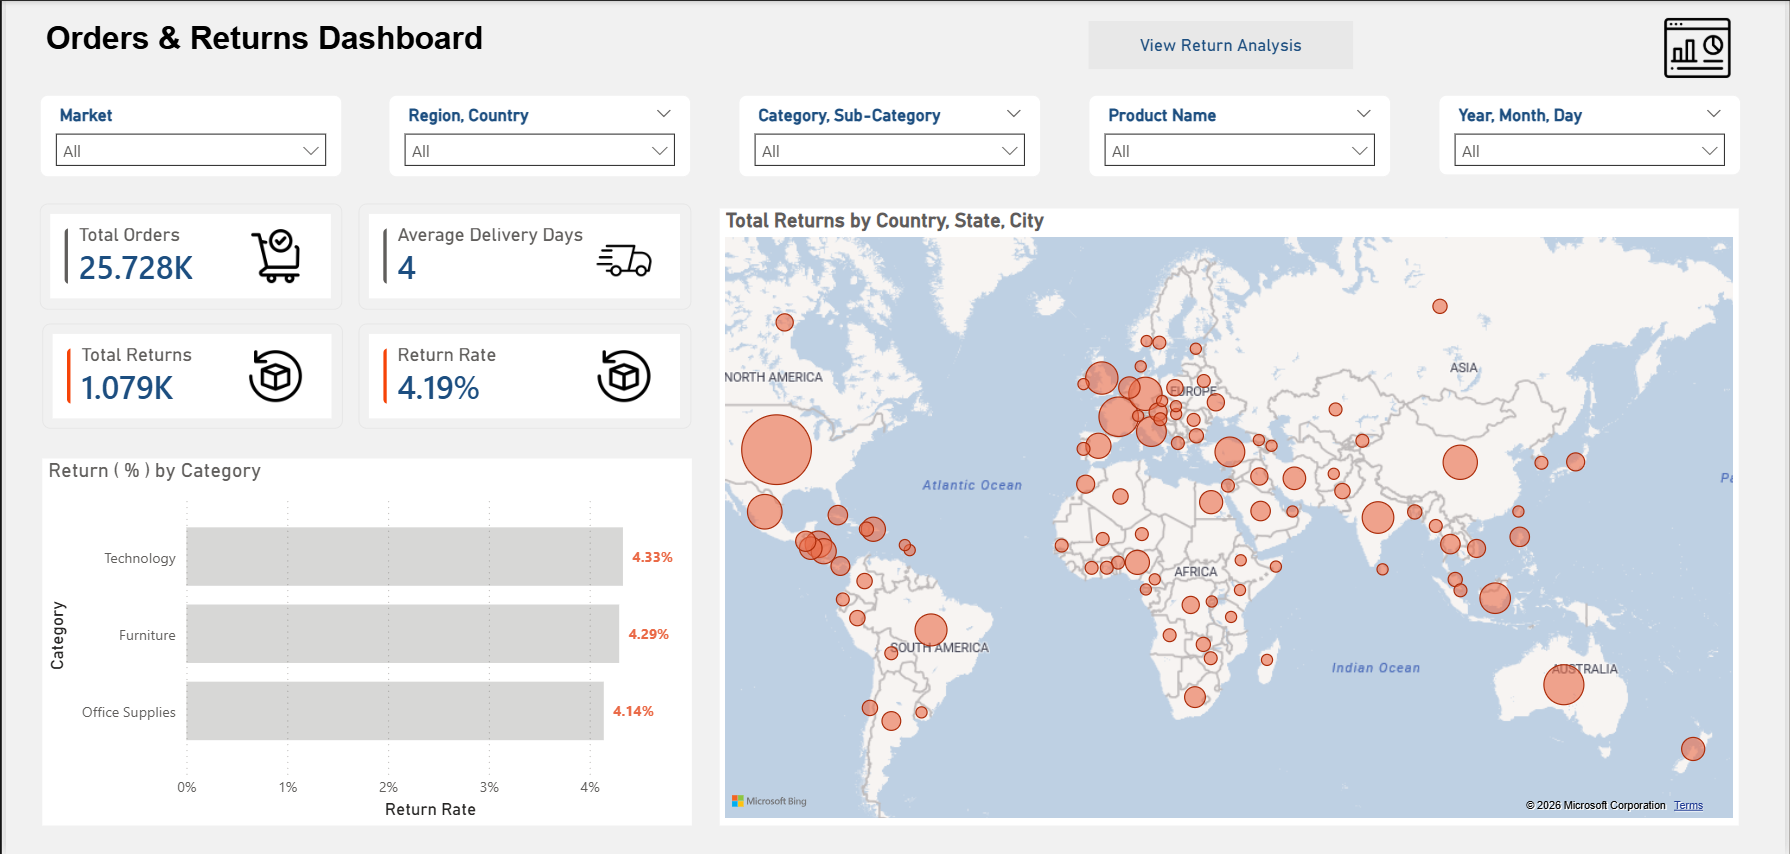

This screenshot's page, from the dashboard's own definition file:
{"tool":"powerbi","page":{"name":"Orders & Returns Overview","canvas":[1500,720],"ordinal":1},"visuals":[{"type":"textbox","box":[28,12,587.2,46.2],"z":0},{"type":"image","box":[1391,12,71.6,56.2],"z":1000},{"type":"slicer","fields":{"Values":["Orders.Market"]},"box":[28,79,255.1,69.4],"z":2000},{"type":"slicer","fields":{"Values":["Orders.Region","Orders.Country"]},"box":[323.1,79,255.1,69.4],"z":3000},{"type":"slicer","fields":{"Values":["Orders.Category","Orders.Sub-Category"]},"box":[618.2,79,255.1,69.4],"z":4000},{"type":"slicer","fields":{"Values":["Orders.Product Name"]},"box":[913.3,79,255.1,69.4],"z":5000},{"type":"slicer","fields":{"Values":["Calendar.Year","Calendar.MonthSort","Calendar.Day"]},"box":[1208.3,79,255,68.3],"z":6000},{"type":"cardVisual","fields":{"Data":["Orders.Total Orders"]},"box":[28,171,255,89.7],"z":7000},{"type":"cardVisual","fields":{"Data":["Orders.Average Delivery Days"]},"box":[297.6,170.8,280.7,89.6],"z":12000},{"type":"cardVisual","fields":{"Data":["Returns.Total Returns"]},"box":[30.4,272.2,253.6,89],"z":13000},{"type":"cardVisual","fields":{"Data":["Returns.Return Rate"]},"box":[297.6,272.2,280.7,89],"z":14000},{"type":"map","title":"Total Returns by Country, State, City","fields":{"Category":["Orders.Country","Orders.State","Orders.City"],"Size":["Returns.Total Returns"]},"box":[602.5,175.6,859.6,519.7],"z":17000},{"type":"actionButton","box":[913,16.9,223.2,40.6],"z":18000},{"type":"clusteredBarChart","title":"Return ( % )  by Category","fields":{"Category":["Orders.Category"],"Y":["Returns.Return Rate"]},"box":[30.4,385.5,547.8,309.4],"z":19000}]}

Visuals, with their boxes in screenshot pixels (x1, y1, x2, y2), scaled from the page's 1500x720 canvas onto the 1790x854 screenshot:
textbox: (33, 14, 734, 69)
image: (1660, 14, 1745, 81)
slicer - Orders.Market: (33, 94, 338, 176)
slicer - Orders.Region x Orders.Country: (386, 94, 690, 176)
slicer - Orders.Category x Orders.Sub-Category: (738, 94, 1042, 176)
slicer - Orders.Product Name: (1090, 94, 1394, 176)
slicer - Calendar.Year x Calendar.MonthSort: (1442, 94, 1746, 175)
cardVisual - Orders.Total Orders: (33, 203, 338, 309)
cardVisual - Orders.Average Delivery Days: (355, 203, 690, 309)
cardVisual - Returns.Total Returns: (36, 323, 339, 428)
cardVisual - Returns.Return Rate: (355, 323, 690, 428)
"Total Returns by Country, State, City" map: (719, 208, 1745, 825)
actionButton: (1090, 20, 1356, 68)
"Return ( % )  by Category" clusteredBarChart: (36, 457, 690, 824)
